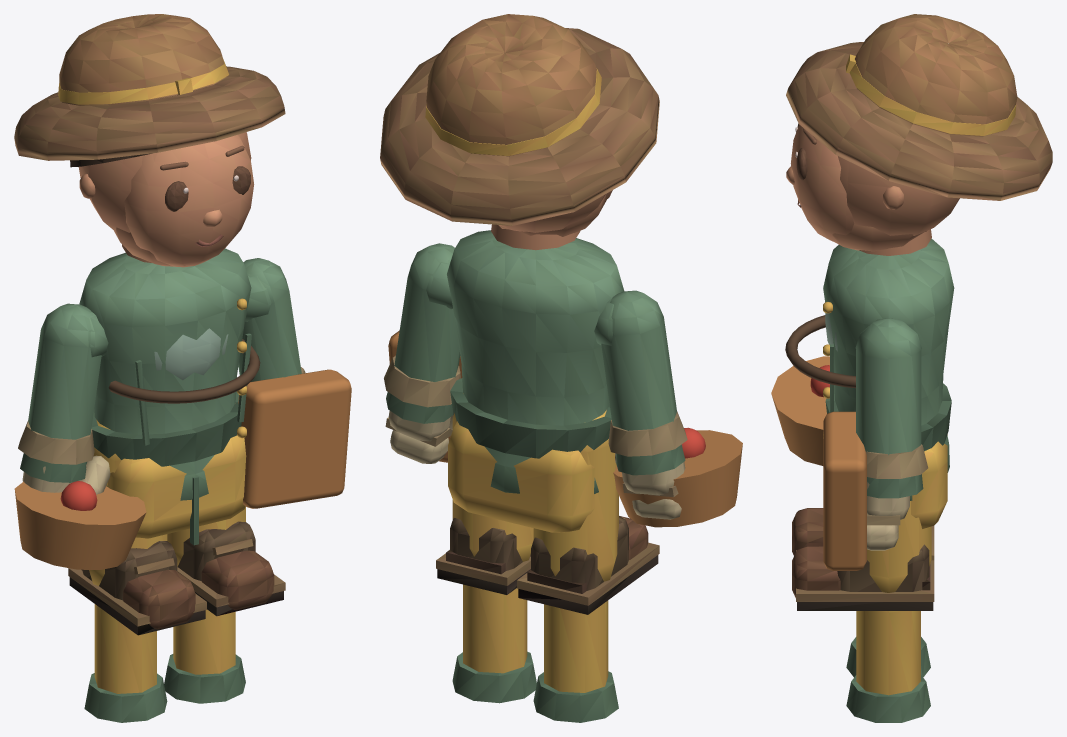
Rendered from kang-taeho.m1.glb.
3 renders of one model, left to right at view 1: azimuth 30°, elevation 25°; view 2: azimuth 150°, elevation 25°; view 3: azimuth 270°, elevation 25°, orthographic. The views are drawn at different scales.
Parts seen in each view (by area): view 1: coat, legs, hat, figureDetail, fieldSatchel, armLeftMesh, harvestBasket, trousers, armRightMesh, handLeftMesh, fieldSatchelStrap, tomatoSample; view 2: hat, legs, coat, armLeftMesh, trousers, armRightMesh, harvestBasket, handRightMesh, handLeftMesh, figureDetail, neck; view 3: hat, legs, coat, figureDetail, armRightMesh, fieldSatchel, harvestBasket, handRightMesh, trousers, fieldSatchelStrap, neck.
Boxes of the visible parts, x1,y1,x2,y2 form: coat: (79, 248, 251, 500); legs: (68, 419, 285, 722); hat: (14, 14, 285, 160); figureDetail: (70, 87, 254, 267); fieldSatchel: (238, 369, 351, 508); armLeftMesh: (20, 303, 108, 482); harvestBasket: (14, 481, 146, 569); trousers: (108, 435, 246, 545); armRightMesh: (238, 258, 301, 381); handLeftMesh: (18, 421, 110, 494); fieldSatchelStrap: (108, 339, 260, 403); tomatoSample: (60, 481, 97, 510); hat: (380, 14, 659, 225); legs: (436, 393, 659, 722); coat: (447, 230, 624, 493); armLeftMesh: (594, 290, 685, 475); trousers: (448, 421, 594, 532); armRightMesh: (386, 243, 460, 423); harvestBasket: (613, 430, 742, 527); handRightMesh: (384, 355, 460, 463); handLeftMesh: (608, 411, 687, 519); figureDetail: (498, 190, 612, 236); neck: (491, 224, 580, 250); hat: (786, 14, 1052, 200); legs: (792, 501, 934, 722); coat: (823, 238, 954, 500); figureDetail: (786, 123, 959, 251); armRightMesh: (855, 318, 923, 498); fieldSatchel: (823, 411, 866, 570); harvestBasket: (771, 356, 829, 465); handRightMesh: (866, 444, 928, 550); trousers: (911, 434, 947, 528); fieldSatchelStrap: (785, 315, 855, 388); neck: (859, 229, 931, 255).
Bounding box in the file's own units: 1.11 × 2.21 × 0.8386.
